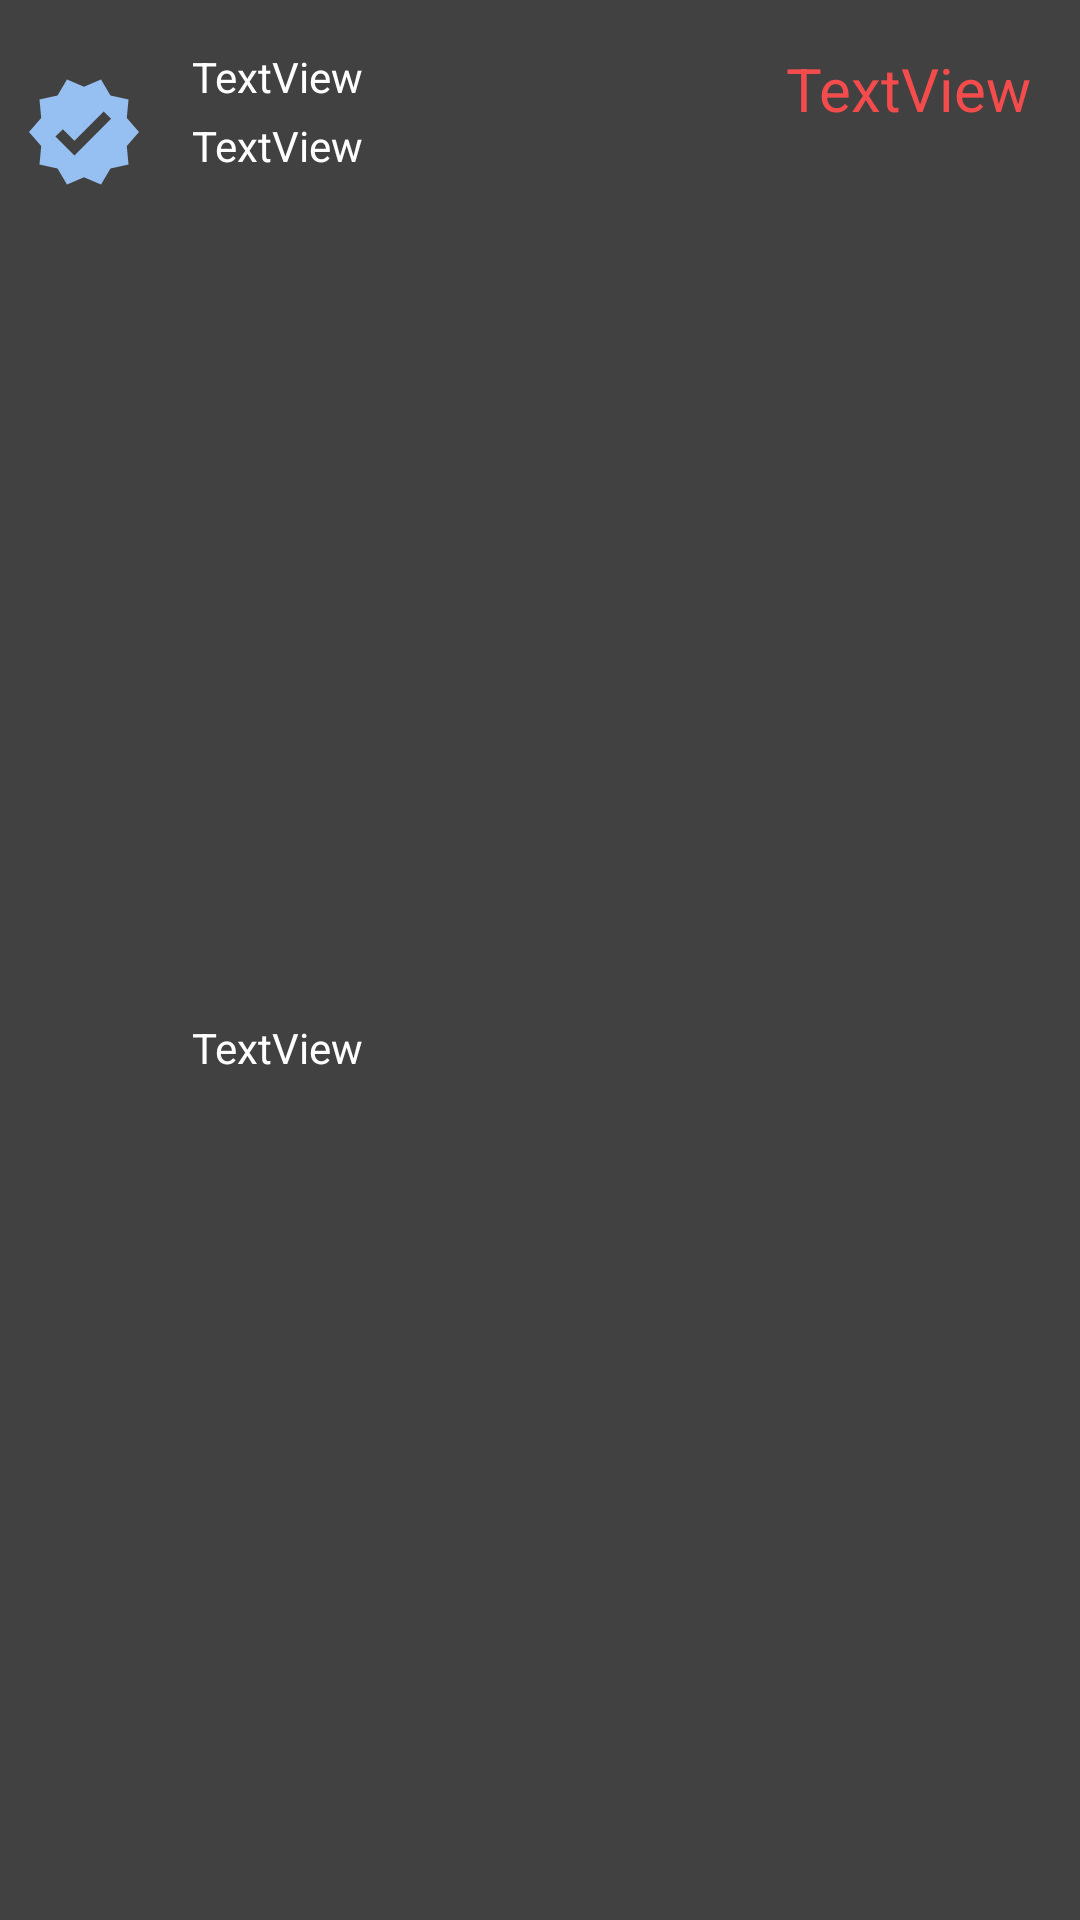

Point at icon controls on the screen. Image size 1080 × 1920, points as [x,y].
verified: [84,132]
